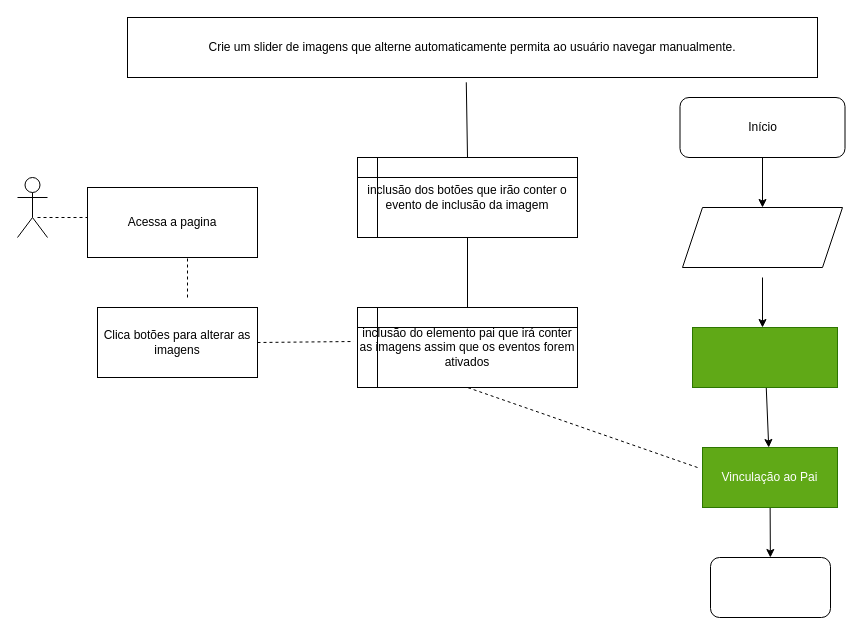
Some shapes in this 863 by 635 pixel diagram are drawn without their labels. Each missing label, with the centre of its shape:
Actor: pixel 32 207
Criação de elemento img: pixel 765 357
Fim: pixel 770 587
Selecionar os botões, adicionar eventos de click e inlcuir funções: pixel 762 237
